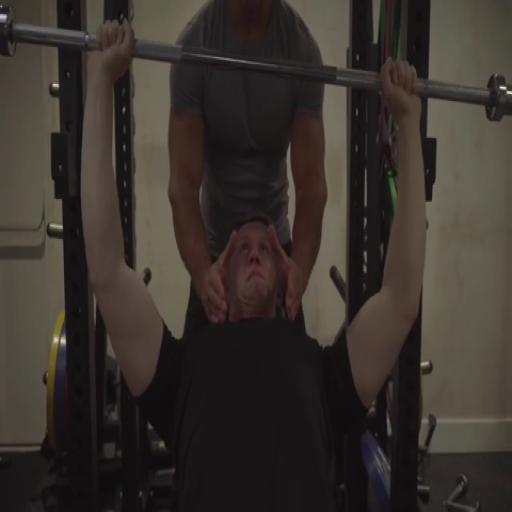exercise: (78, 16, 430, 510)
